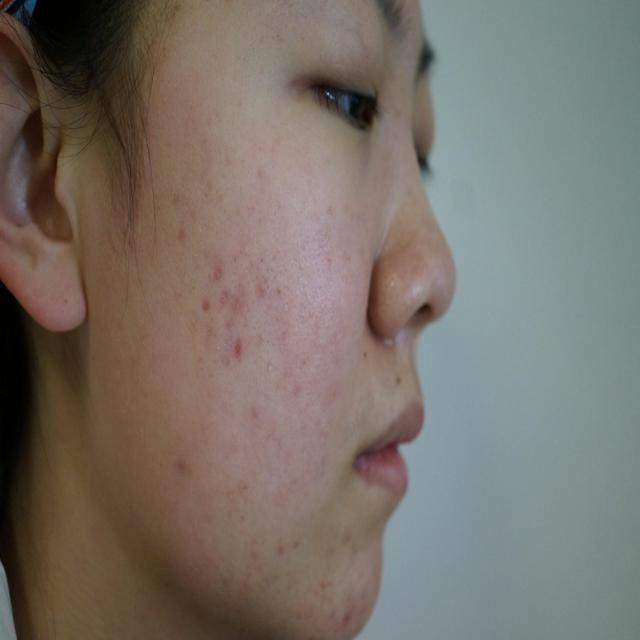Pimples: (332, 582, 365, 638), (167, 449, 194, 482), (227, 332, 248, 374), (248, 266, 270, 306), (192, 290, 216, 324)
